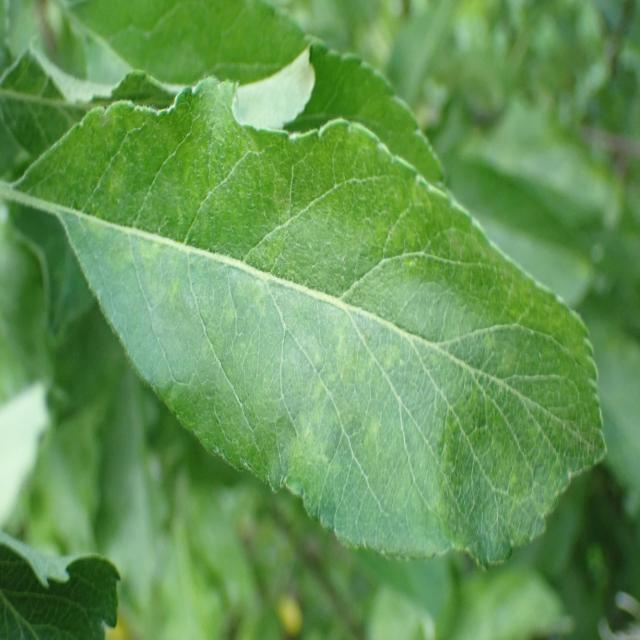scab: (62, 130, 580, 509)
